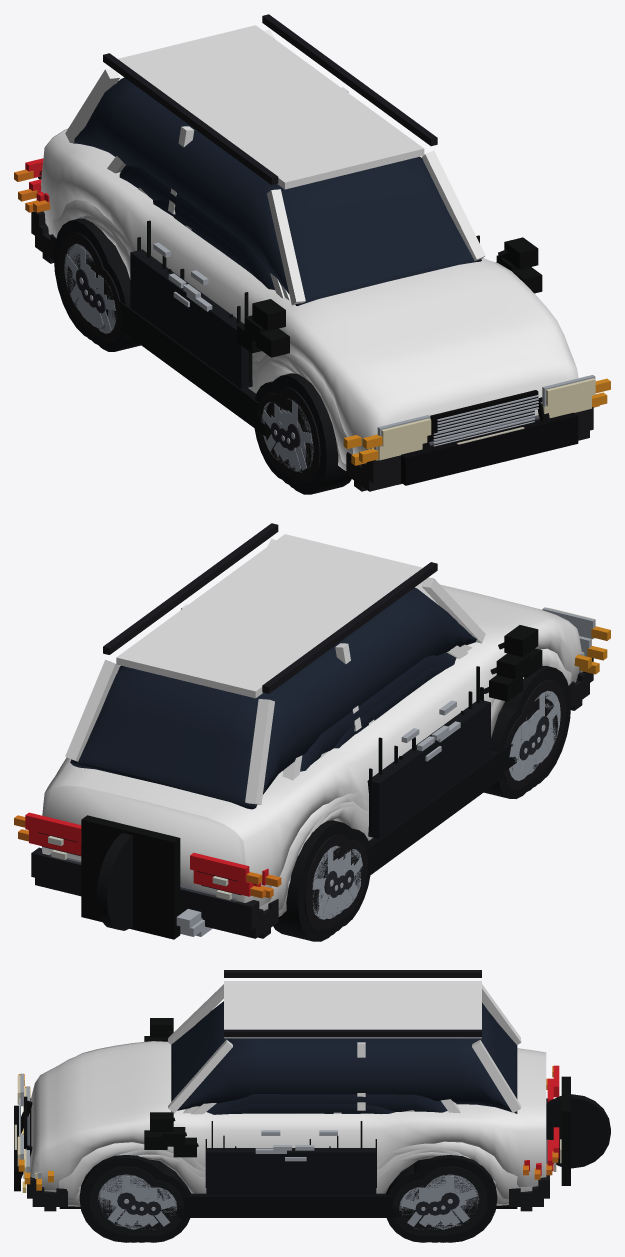
File: cars.glb
3 views of the same model, one above another, from view 1: azimuth 30°, elevation 25°; view 2: azimuth 150°, elevation 25°; view 3: azimuth 270°, elevation 25° (orthographic). The views are drawn at different scales.
Visible parts, largest first — view 1: car_suv_paint, car_suv_detail, car_cop_detail, car_hatch_detail, car_coupe_detail, car_suv_lit, car_sedan_paint, car_sedan_lit, car_hatch_paint, car_coupe_paint; view 2: car_suv_detail, car_suv_paint, car_cop_detail, car_hatch_detail, car_coupe_detail, car_suv_lit, car_sedan_paint, car_sedan_lit, car_hatch_paint, car_coupe_paint; view 3: car_suv_paint, car_suv_detail, car_cop_detail, car_hatch_detail, car_coupe_detail, car_sedan_paint, car_coupe_paint, car_hatch_paint, car_suv_lit, car_sedan_lit.
Part boxes in pixels (x1,y1,x2,y2): car_suv_paint: [41, 25, 578, 453]; car_suv_detail: [31, 14, 593, 494]; car_cop_detail: [35, 199, 589, 491]; car_hatch_detail: [50, 164, 518, 480]; car_coupe_detail: [42, 217, 496, 491]; car_suv_lit: [14, 158, 610, 449]; car_sedan_paint: [47, 188, 352, 464]; car_sedan_lit: [18, 179, 607, 462]; car_hatch_paint: [83, 156, 310, 382]; car_coupe_paint: [76, 216, 346, 470]; car_suv_detail: [31, 523, 593, 941]; car_suv_paint: [42, 534, 581, 906]; car_cop_detail: [35, 648, 589, 938]; car_hatch_detail: [268, 653, 574, 927]; car_coupe_detail: [196, 675, 582, 938]; car_suv_lit: [14, 607, 610, 886]; car_sedan_paint: [259, 644, 576, 910]; car_sedan_lit: [18, 636, 607, 900]; car_hatch_paint: [282, 645, 491, 833]; car_coupe_paint: [278, 677, 523, 916]; car_suv_paint: [30, 981, 546, 1189]; car_suv_detail: [14, 970, 610, 1242]; car_cop_detail: [14, 1036, 556, 1242]; car_hatch_detail: [56, 1037, 520, 1242]; car_coupe_detail: [44, 1113, 532, 1242]; car_sedan_paint: [44, 1106, 535, 1199]; car_coupe_paint: [68, 1152, 508, 1206]; car_hatch_paint: [117, 1099, 463, 1171]; car_suv_lit: [17, 1065, 559, 1171]; car_sedan_lit: [23, 1078, 553, 1184].
Bounding box in the file's own units: 2.04 × 1.85 × 5.09.
